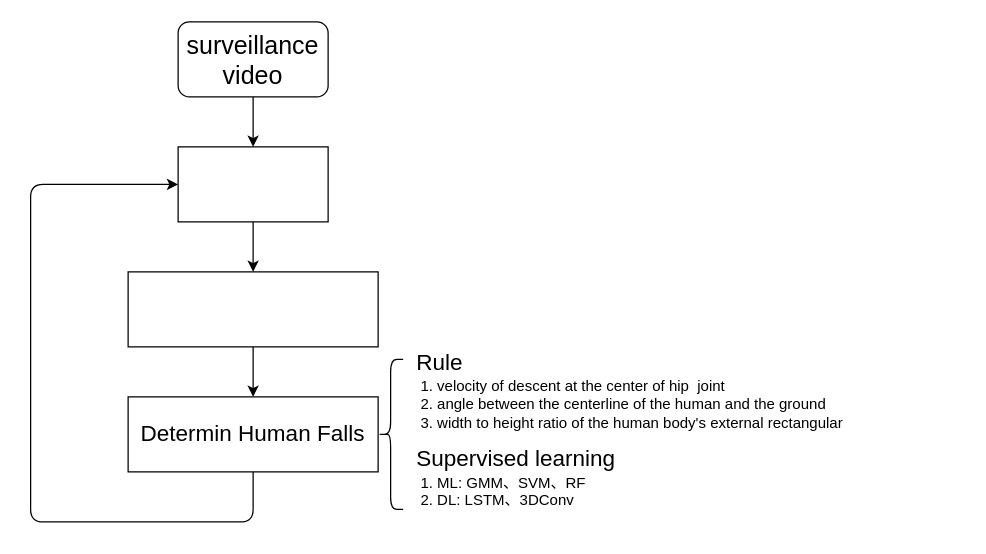
Image size: 986x554. Some labels were removed from this diagram. Each missing label, with the centre of its shape:
"Pose Estimation obtain skeleton data" belongs at point (252, 309).
"Read Frame" belongs at point (252, 184).
